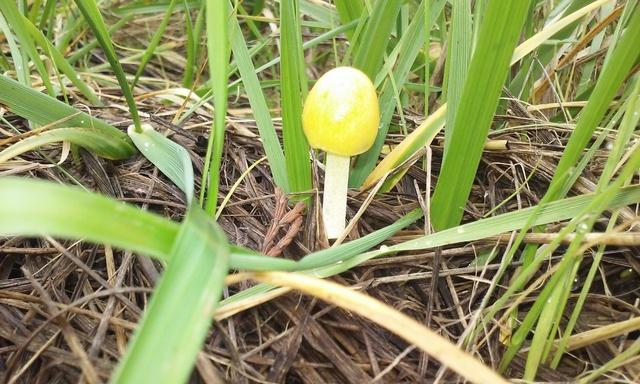edible_mushroom: (300, 65, 380, 245)
